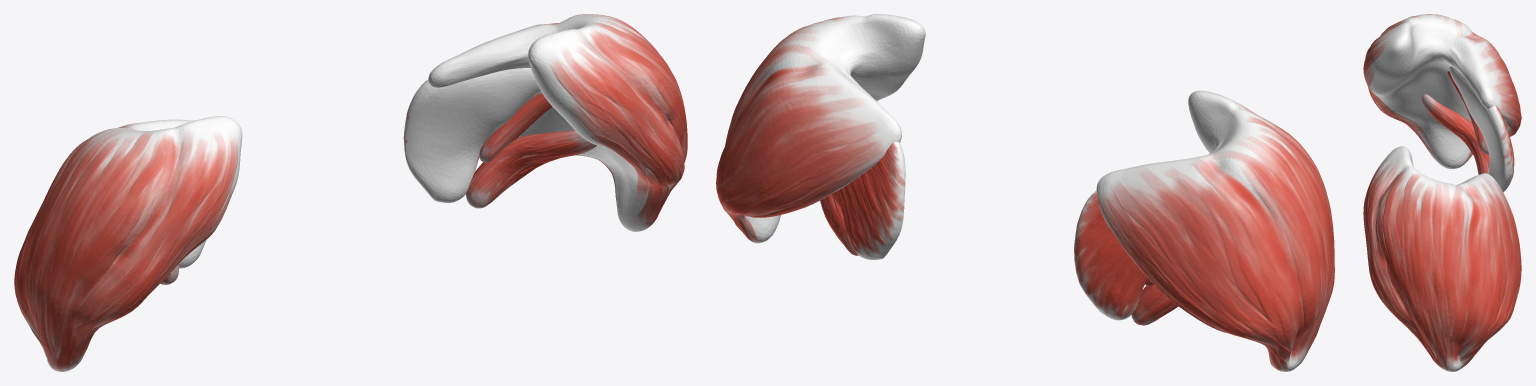
Rendered from SubTool-5-973492.OBJ.
3 renders of one model, left to right at view 1: azimuth 30°, elevation 25°; view 2: azimuth 150°, elevation 25°; view 3: azimuth 270°, elevation 25°, orthographic. The views are drawn at different scales.
Parts seen in each view (by area): view 1: Group65357; view 2: Group65357; view 3: Group65357.
Boxes of the visible parts, x1,y1,x2,y2 form: Group65357: [14, 14, 687, 371]; Group65357: [716, 14, 1334, 371]; Group65357: [1363, 14, 1521, 371].
Bounding box in the file's own units: 20.29 × 7.45 × 5.95.
Materials: 1 (1 with a texture image).
